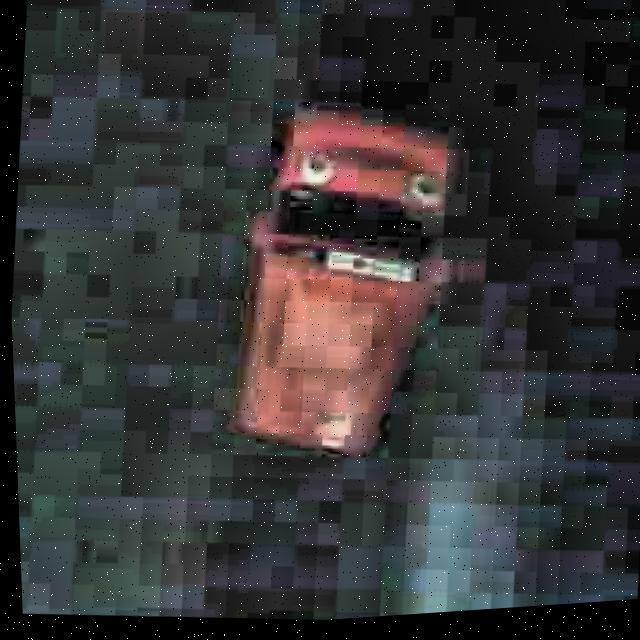bus: (195, 69, 498, 493)
